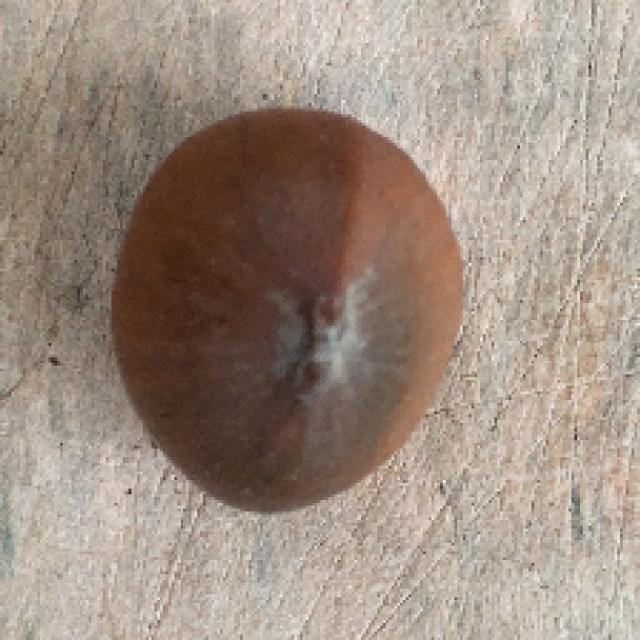qualityHazelnut: (116, 97, 465, 519)
